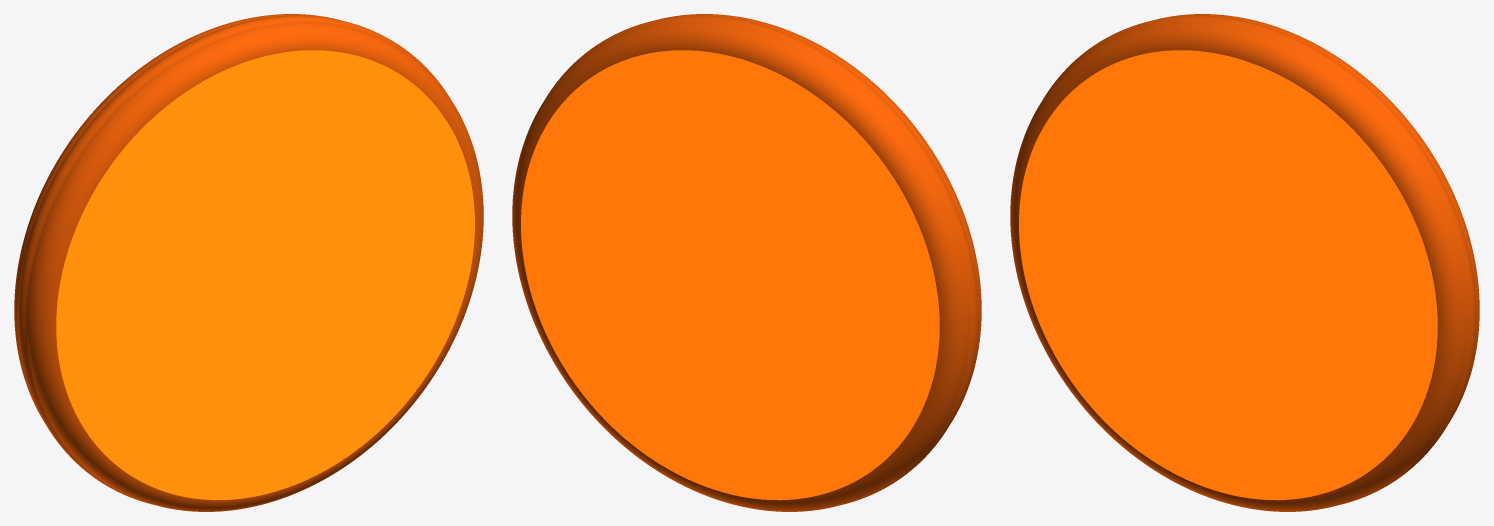
File: nav-coin-account.glb
3 views of the same model, side by side, from view 1: azimuth 30°, elevation 25°; view 2: azimuth 150°, elevation 25°; view 3: azimuth 330°, elevation 25° (orthographic).
Visible parts, largest first — view 1: coin-account; view 2: coin-account; view 3: coin-account.
Part boxes in pixels (x1=…): coin-account: x1=14, y1=14, x2=483, y2=511; coin-account: x1=512, y1=14, x2=981, y2=511; coin-account: x1=1010, y1=14, x2=1479, y2=511.
Size of the model in its own units: 56.5 by 56.5 by 7.1.
